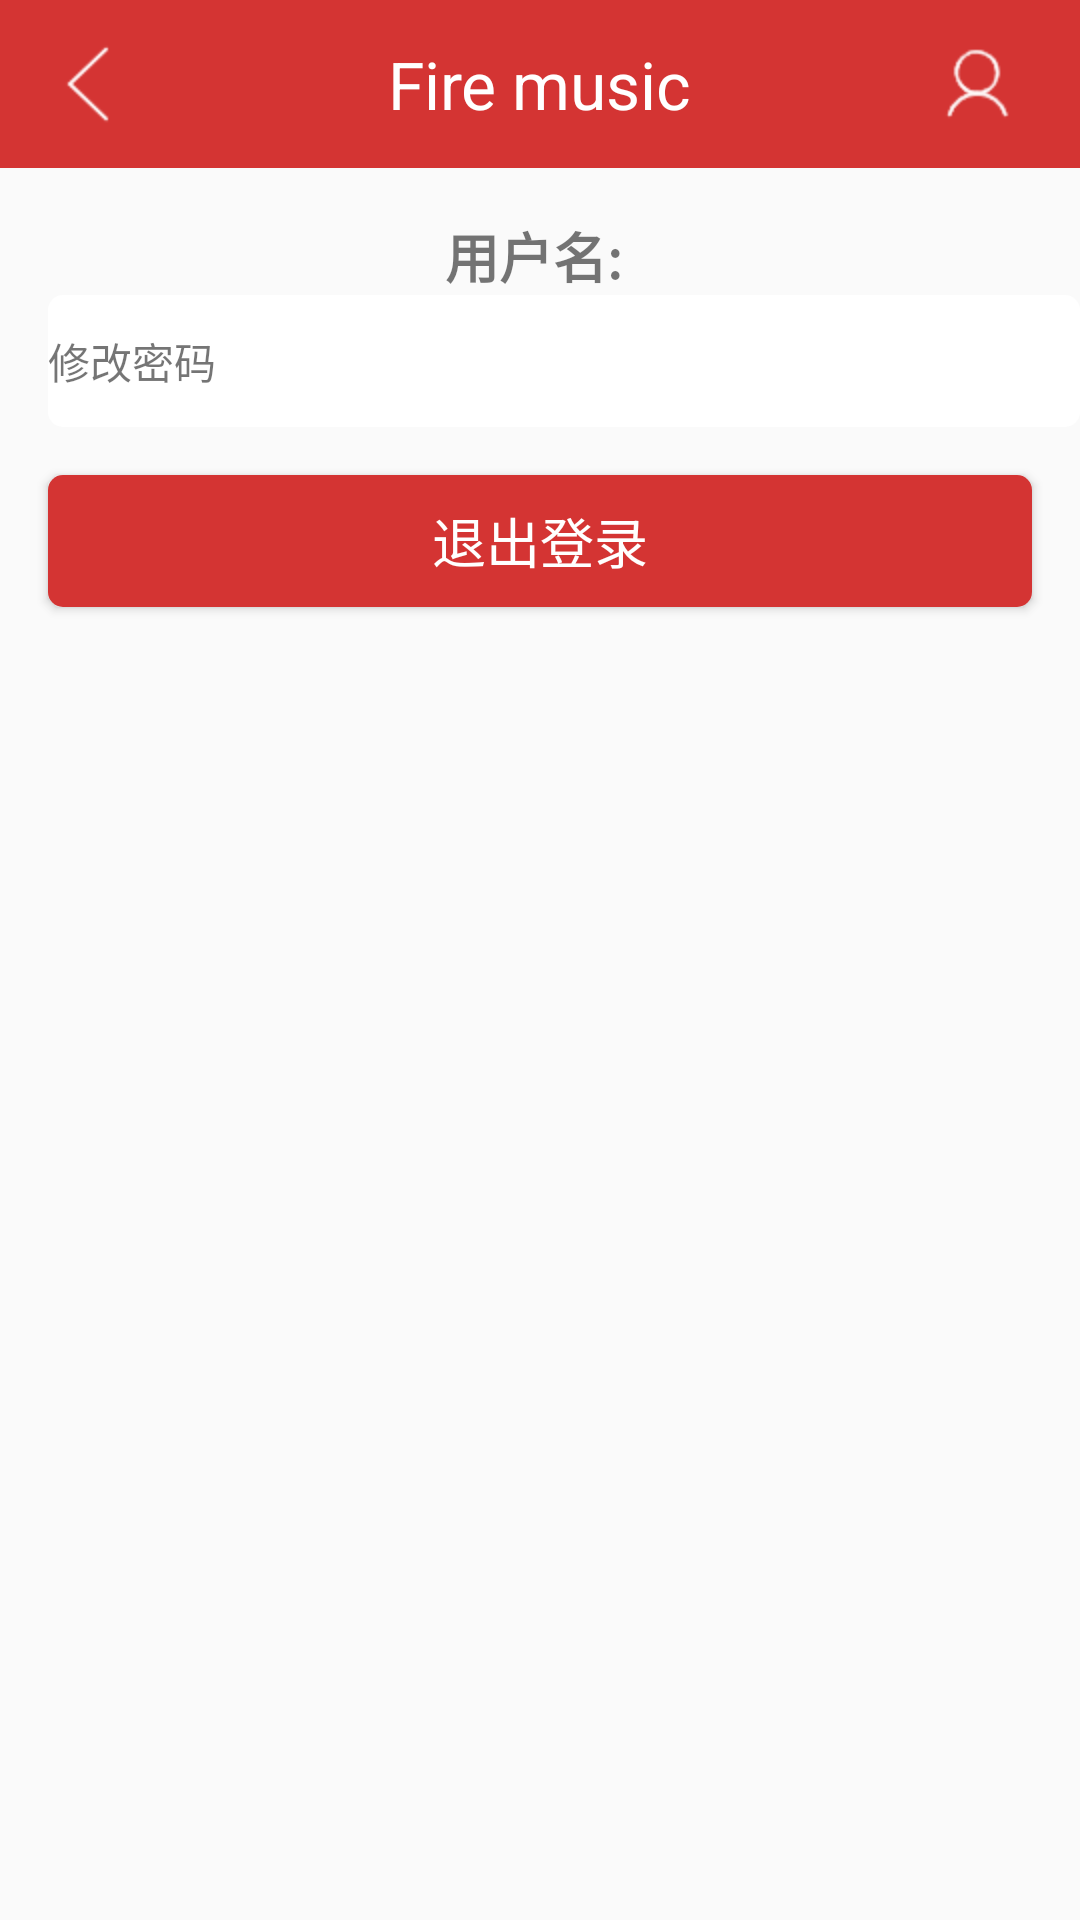

Icon bounding boxes for this 1080*1920 phone screenshot, format (x1, y1, x2, y2):
back: (67, 47, 109, 121)
person: (947, 49, 1009, 117)
